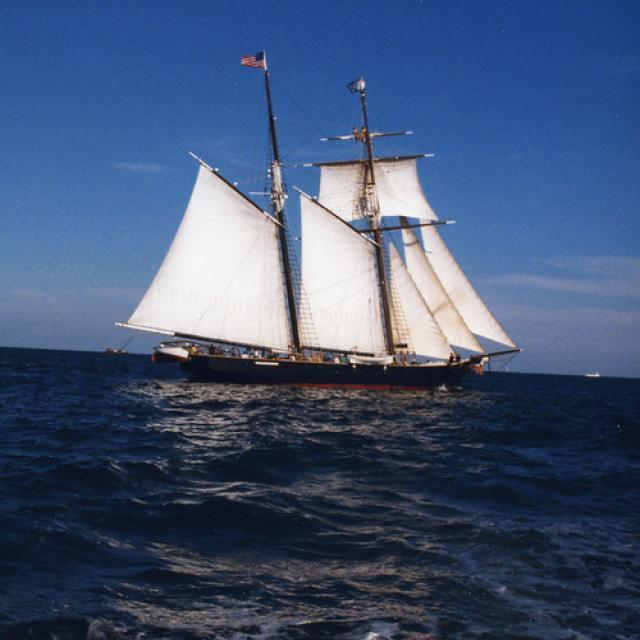Ship: (123, 55, 523, 402)
